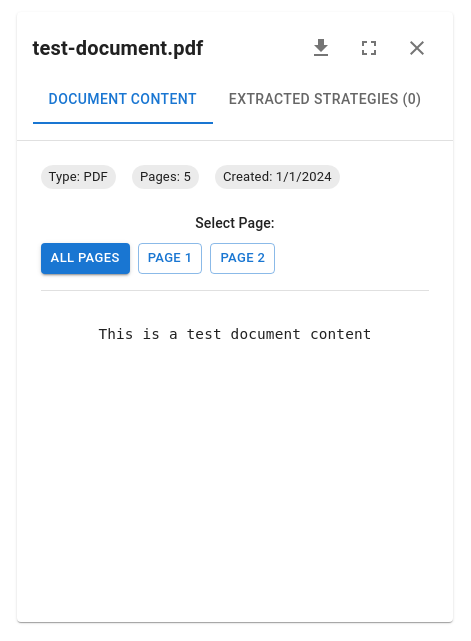
DocumentViewer › should handle page navigation for multi-page documents
Check: the heading "Select Page:" is shown, box [195,215,275,231]
# Click on page 2
Step 1. Click the button "Page 2" → (243, 258), box [210,243,275,274]
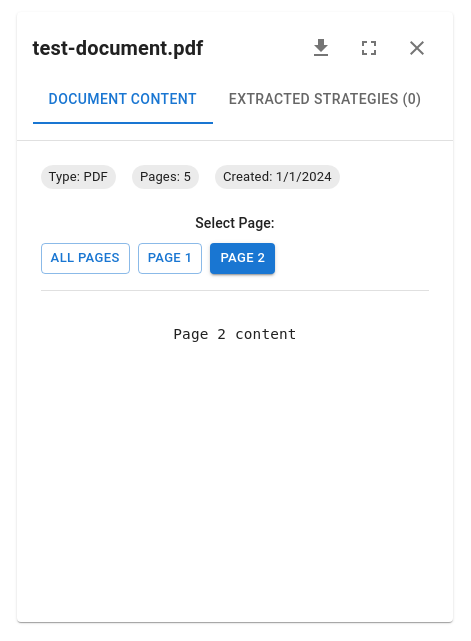
Check: the text "Page 2 content" is shown, box [41,307,429,362]
